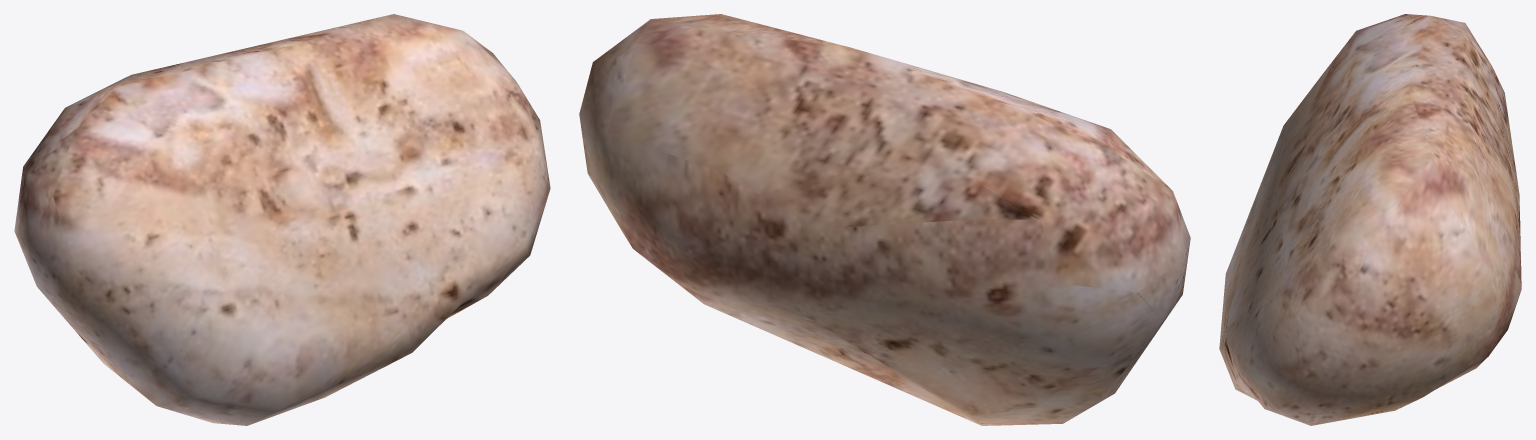
3 views of the same model, side by side, from view 1: azimuth 30°, elevation 25°; view 2: azimuth 150°, elevation 25°; view 3: azimuth 270°, elevation 25° (orthographic). The views are drawn at different scales.
Parts seen in each view (by area): view 1: rock063_lod4; view 2: rock063_lod4; view 3: rock063_lod4.
Part boxes in pixels (bbox=[...]): rock063_lod4: bbox=[14, 14, 550, 425]; rock063_lod4: bbox=[579, 14, 1190, 425]; rock063_lod4: bbox=[1219, 14, 1521, 425].
Bounding box in the file's own units: 1 × 0.6007 × 0.4903.
1 material, 1 textured.
